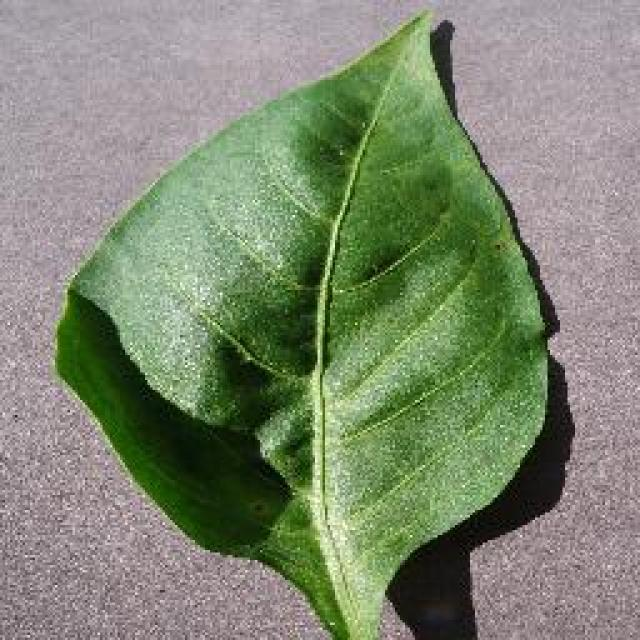Leaf: (28, 6, 638, 631)
